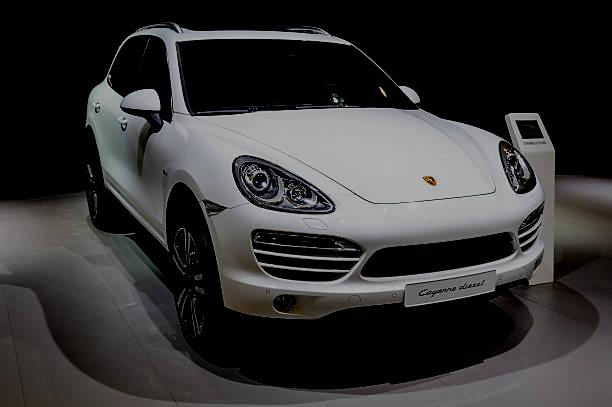porsche: (417, 170, 446, 193)
